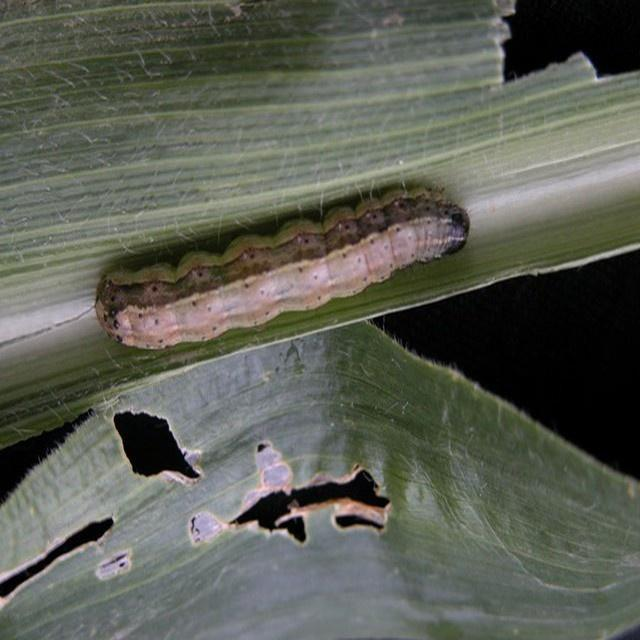Plaga: (95, 188, 473, 351)
